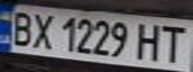1: (54, 12, 78, 53)
2: (72, 15, 96, 55), (90, 16, 112, 57)
9: (109, 18, 133, 60)
B: (6, 8, 36, 47)
H: (133, 19, 166, 62)
T: (157, 22, 190, 63)
X: (27, 10, 57, 51)
